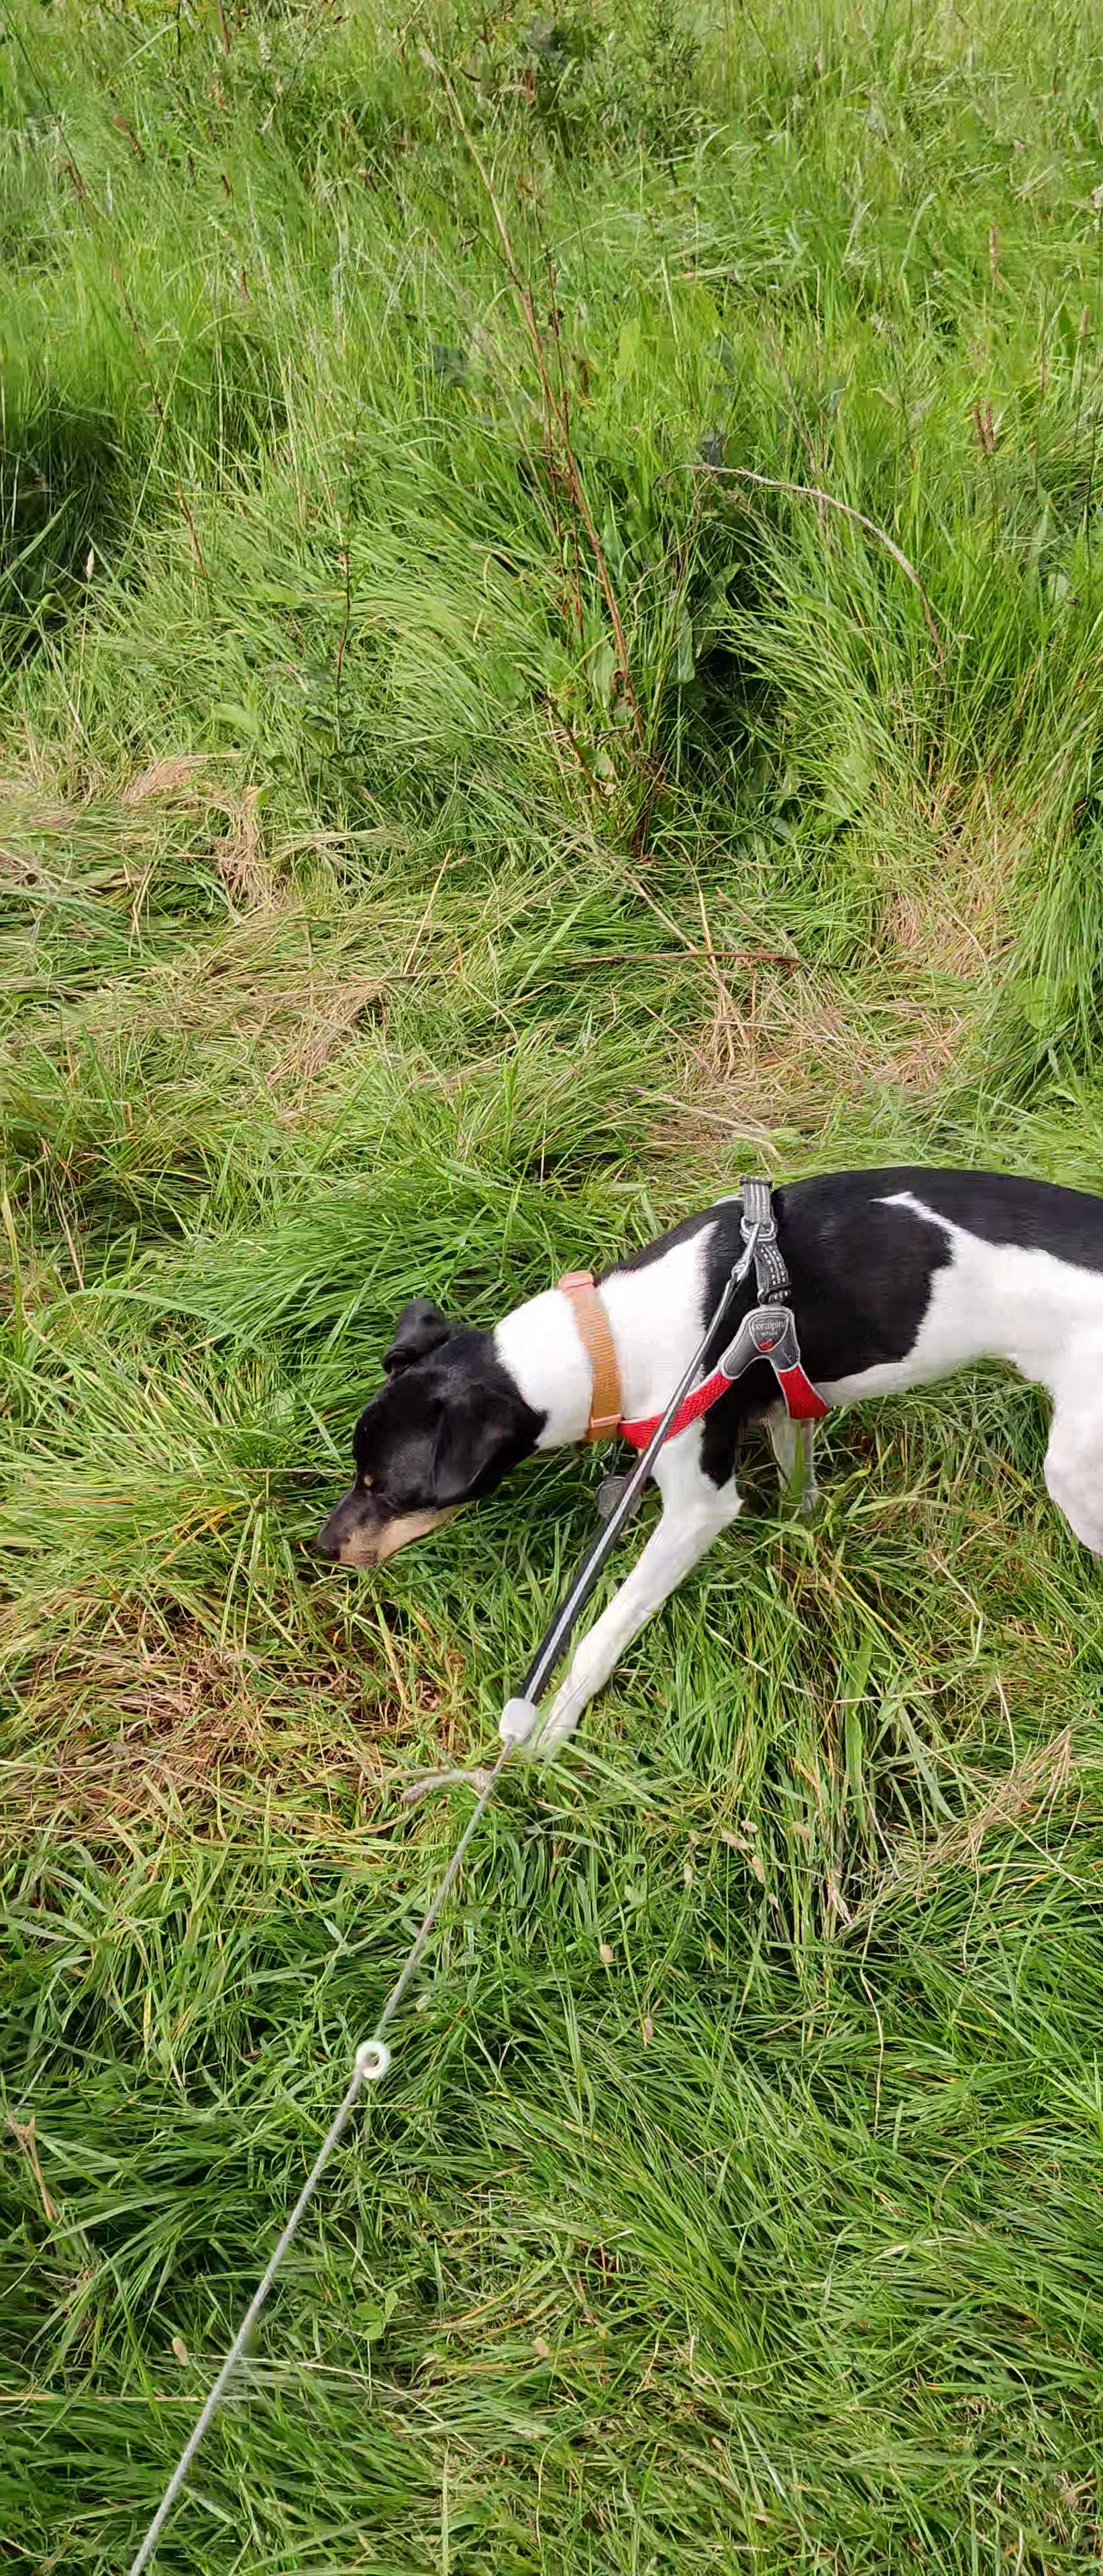Dog: (302, 1140, 1103, 1766)
